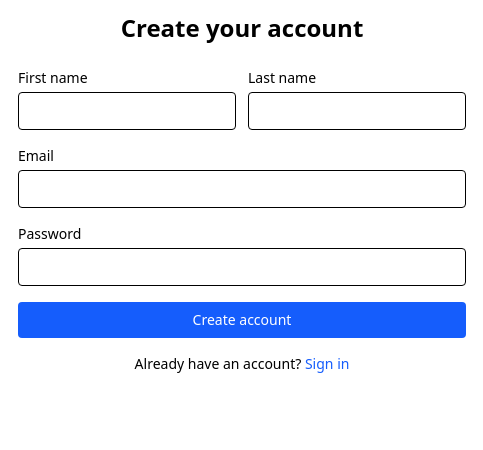
Test: RegisterPage — validation › shows first name error on empty submit
Click the button "Create account": [242, 320] box top-left (18, 302), bottom-right (466, 338)
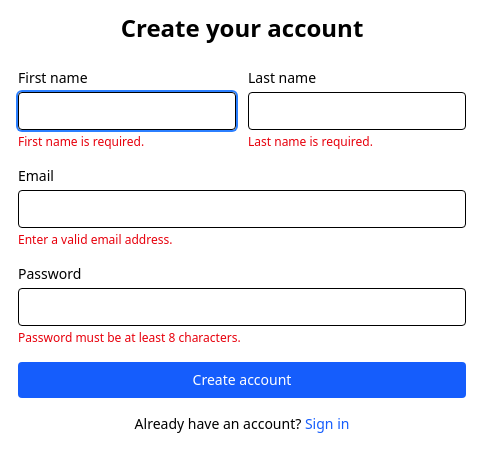
Now the text "First name is required." is shown, box top-left (18, 133), bottom-right (144, 150)
